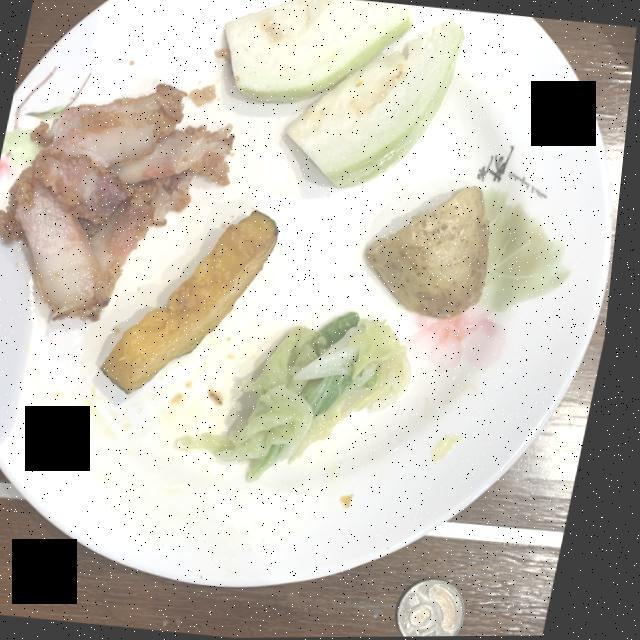cabbage: (184, 313, 419, 482)
coin: (409, 580, 477, 637)
fried potato: (370, 187, 494, 319)
guava -sliced-: (225, 0, 463, 188)
pumpkin: (108, 211, 282, 393)
red grilled pork: (0, 84, 236, 321)
